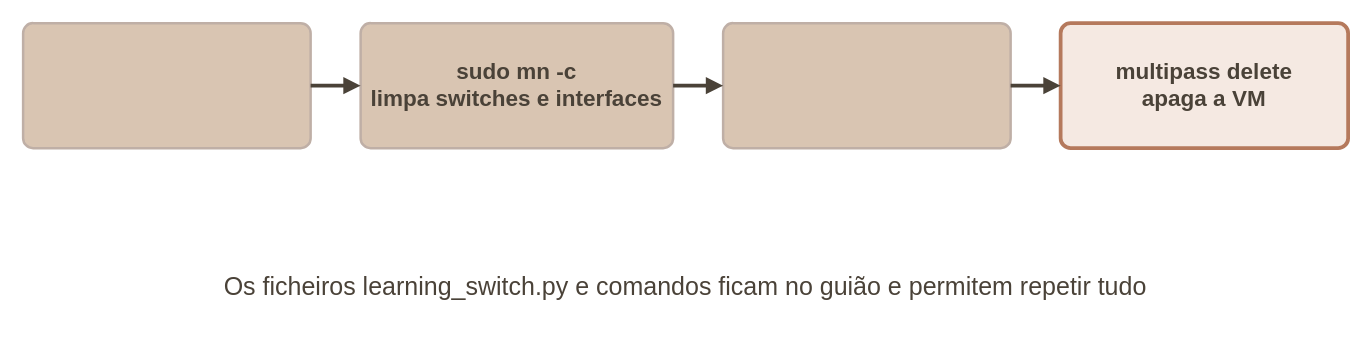
The diagram is 1371 pixels wide and 345 high, and some of its shapes have lost their labels. The shapes that lost their labels are listed below. From the top down, each one's centre as x and y in pixels, then its label:
(166,85): exit sai do Mininet
(866,85): Ctrl+C para o Ryu
